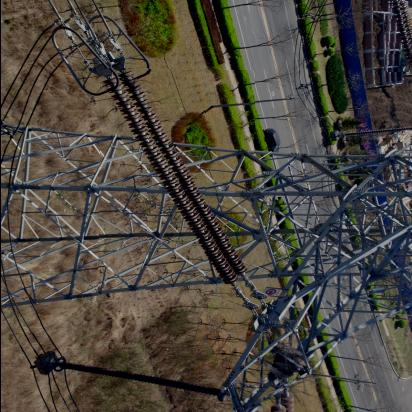insulator: (98, 70, 254, 299), (386, 1, 412, 73)
